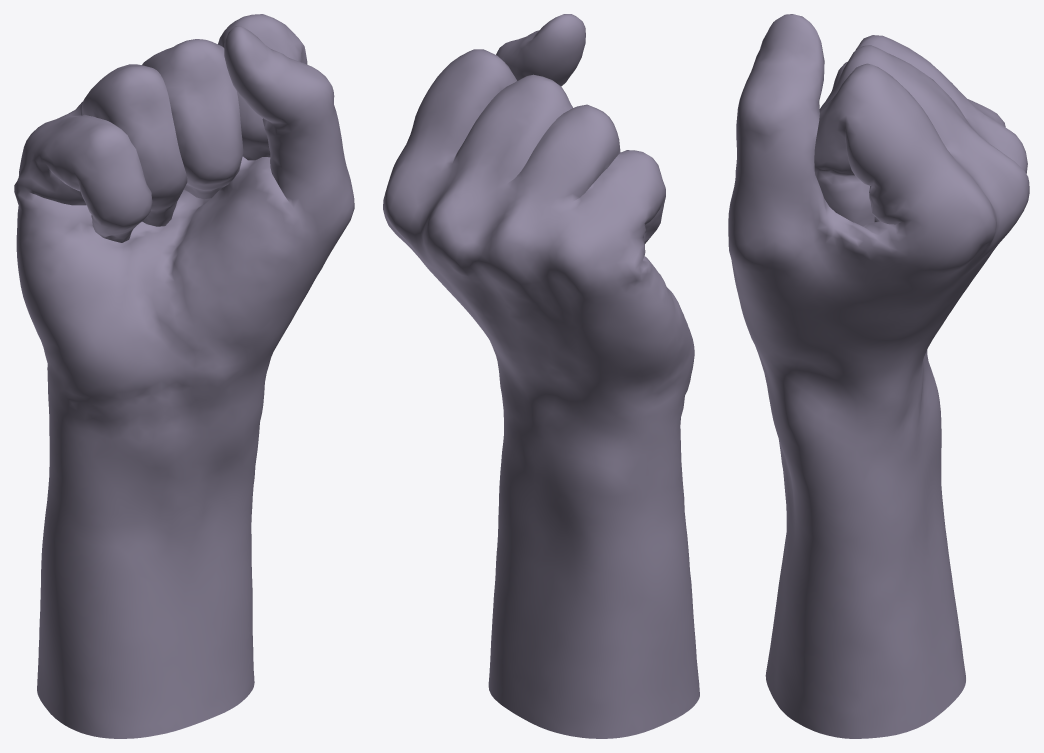
Rendered from 手_20260324183556_opt.glb.
3 views of the same model, side by side, from view 1: azimuth 30°, elevation 25°; view 2: azimuth 150°, elevation 25°; view 3: azimuth 270°, elevation 25° (orthographic). The views are drawn at different scales.
Visible parts, largest first — view 1: LowPo; view 2: LowPo; view 3: LowPo.
Boxes of the visible parts, <box> form: LowPo: <box>14,14,354,738</box>; LowPo: <box>383,14,699,738</box>; LowPo: <box>728,14,1029,738</box>.
Size of the model in its own units: 0.1 by 0.2324 by 0.09.
